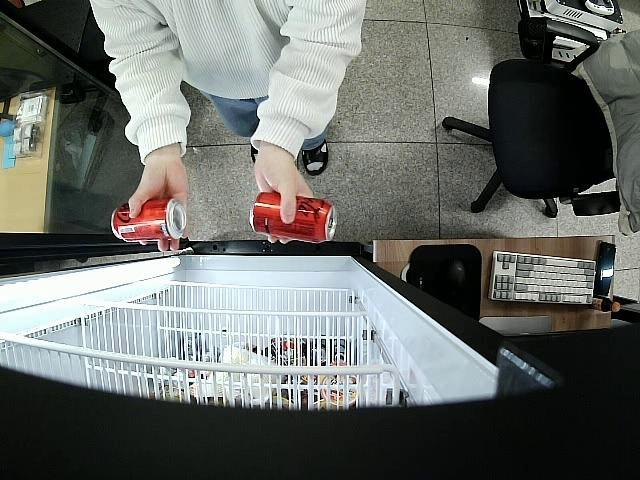11_cocaColaZero: (250, 190, 340, 244), (110, 198, 188, 245)
